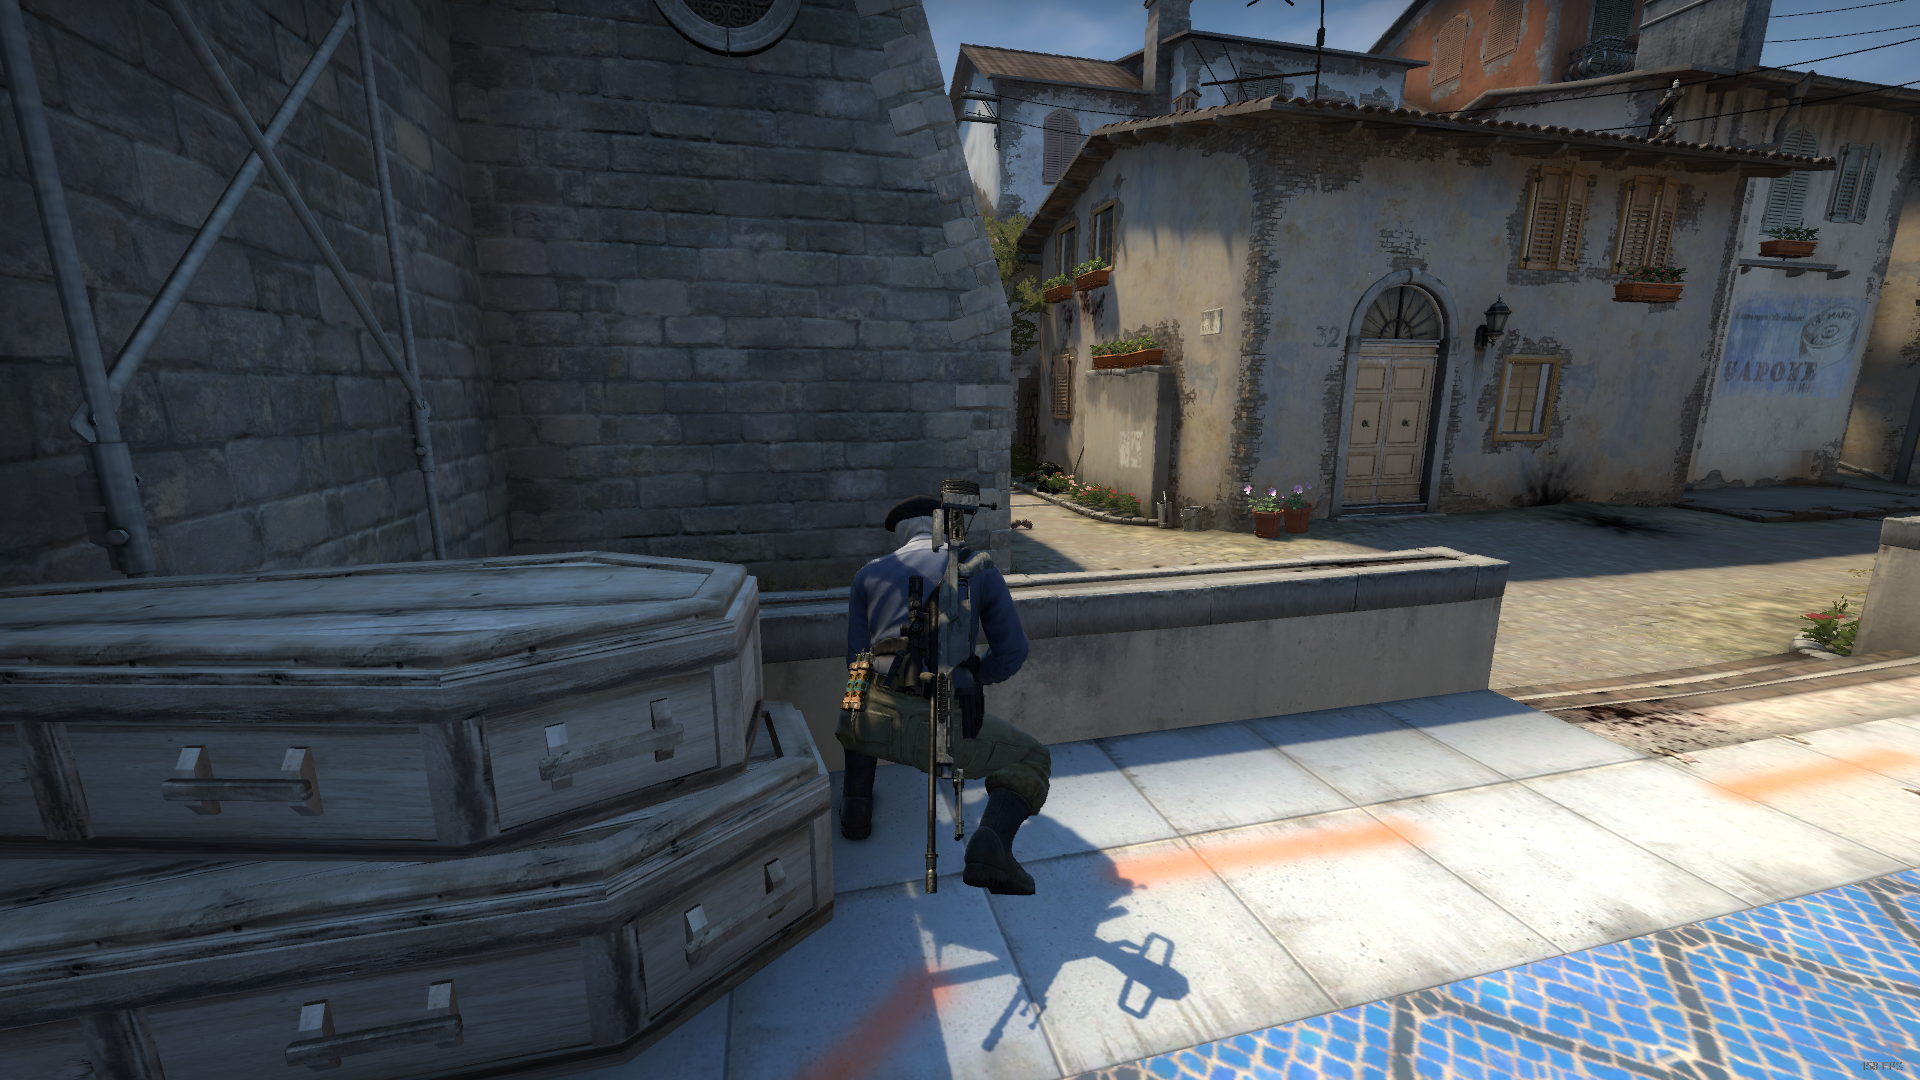t: (835, 467, 1052, 914)
